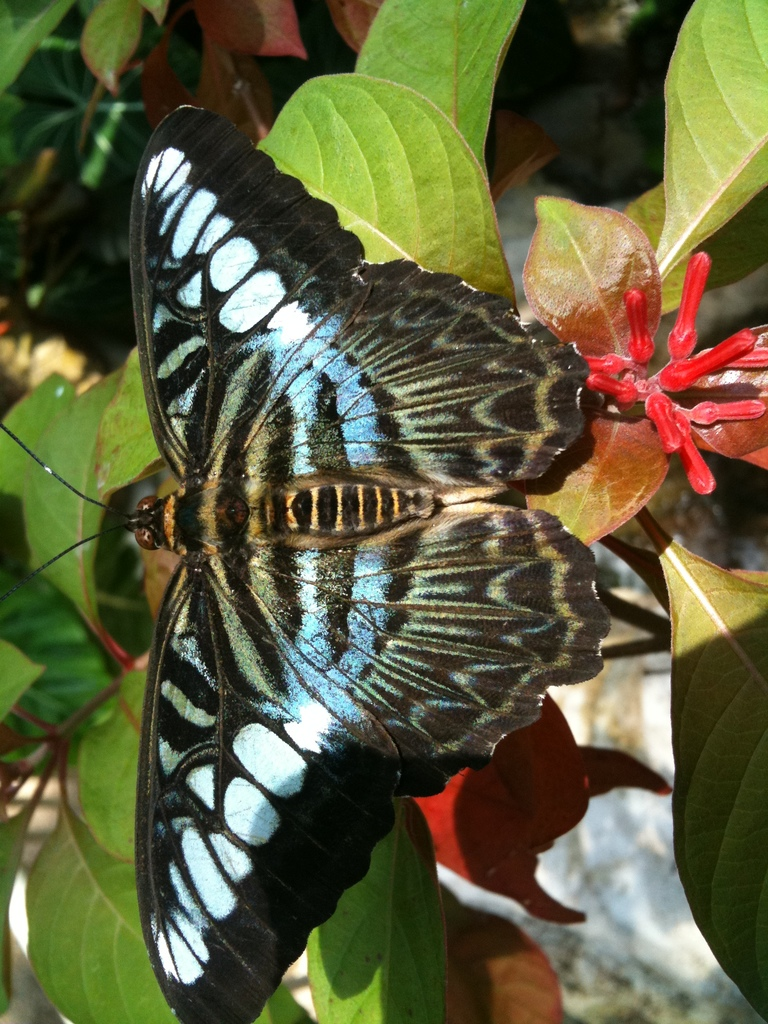Butterfly: (91, 63, 607, 1016)
